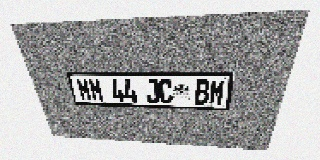4: (123, 79, 138, 103), (110, 79, 125, 102)
B: (194, 80, 210, 105)
C: (159, 79, 172, 104)
J: (145, 79, 159, 103)
M: (208, 80, 226, 105), (76, 78, 93, 101), (88, 79, 104, 102)
